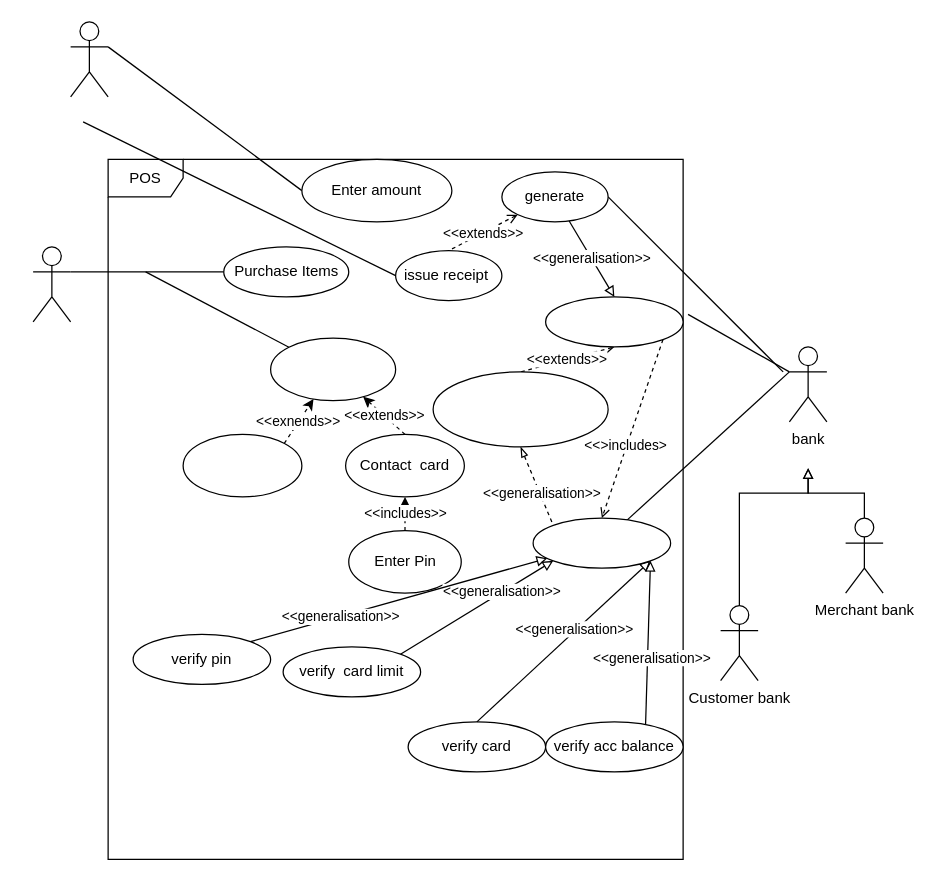
Some shapes in this 935 by 881 pixel diagram are drawn without their labels. Each missing label, with the box of its shape:
contactless: (182, 433, 302, 497)
customer: (32, 246, 71, 322)
make transaction: (544, 296, 683, 347)
Merchant: (69, 21, 108, 97)
Present bank card: (269, 337, 396, 401)
verify transaction: (532, 517, 671, 568)
verify transaction successful: (432, 371, 608, 447)
